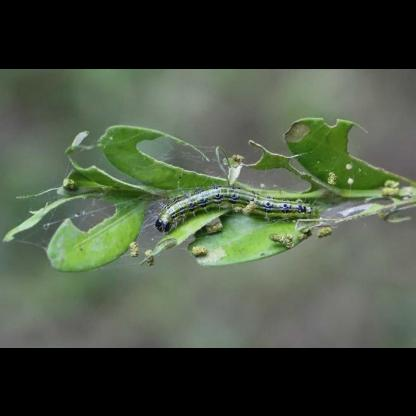agujero: (10, 182, 112, 256), (132, 129, 236, 179), (226, 158, 320, 192), (321, 114, 347, 130)
oruga: (148, 186, 320, 236)
